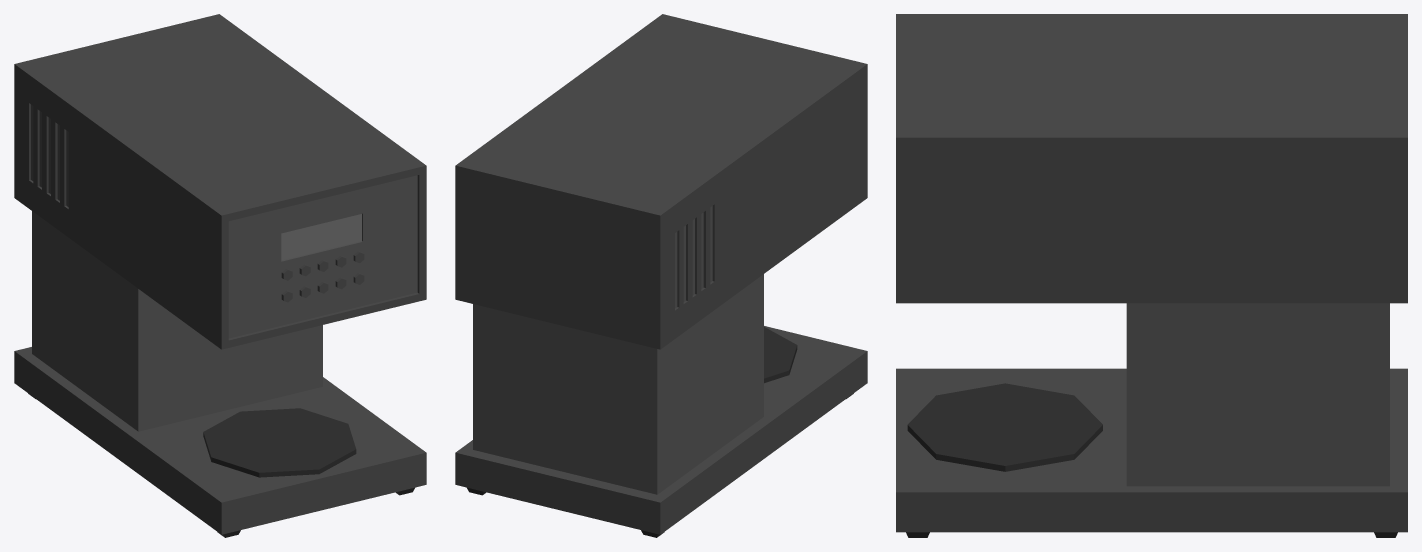
File: CoffeeMachine_01.fbx
3 renders of one model, left to right at view 1: azimuth 30°, elevation 25°; view 2: azimuth 150°, elevation 25°; view 3: azimuth 270°, elevation 25°, orthographic. The views are drawn at different scales.
Visible parts, largest first — view 1: CoffeeMachine_01; view 2: CoffeeMachine_01; view 3: CoffeeMachine_01.
Boxes of the visible parts, x1,y1,x2,y2 form: CoffeeMachine_01: [14, 14, 426, 537]; CoffeeMachine_01: [455, 14, 867, 537]; CoffeeMachine_01: [896, 14, 1407, 537].
Size of the model in its own units: 30 by 45.89 by 52.5.
